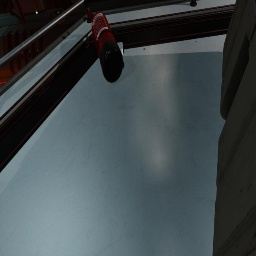FireExtinguisher ]: (86, 9, 124, 83)
